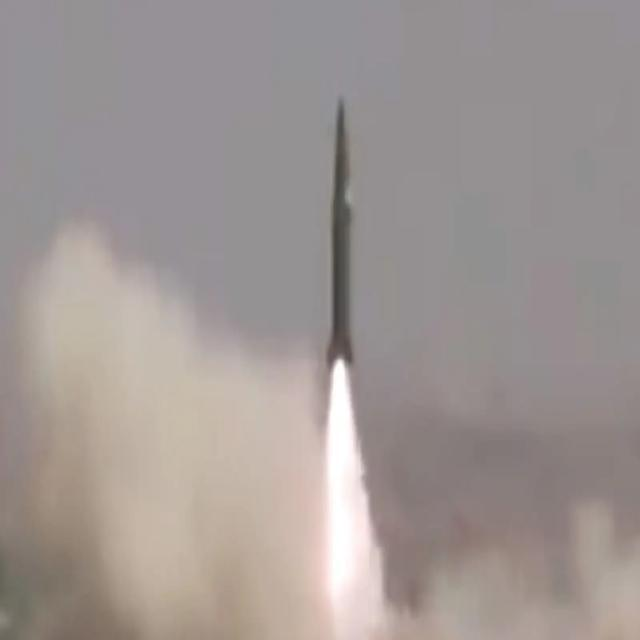Missile: (326, 91, 356, 395)
